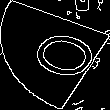O_SE: (12, 24, 98, 86)
